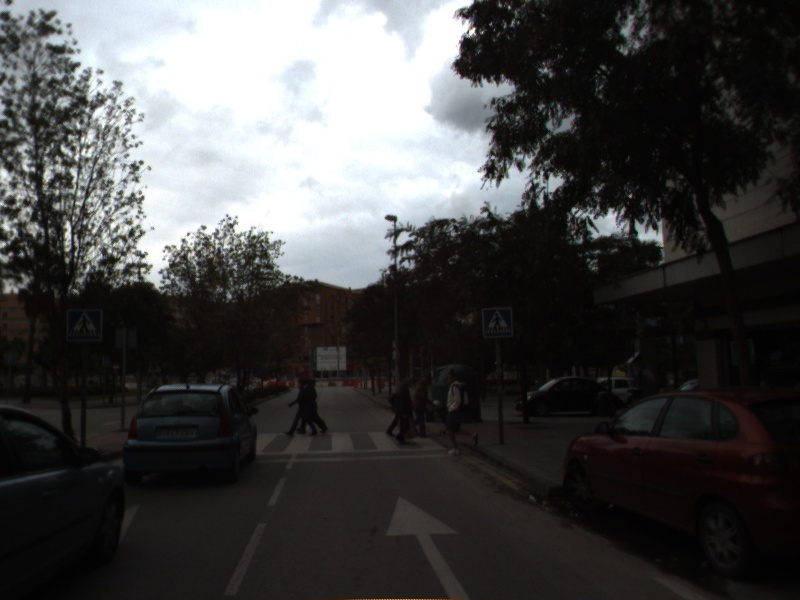STRAIGHT: (383, 493, 472, 600)
